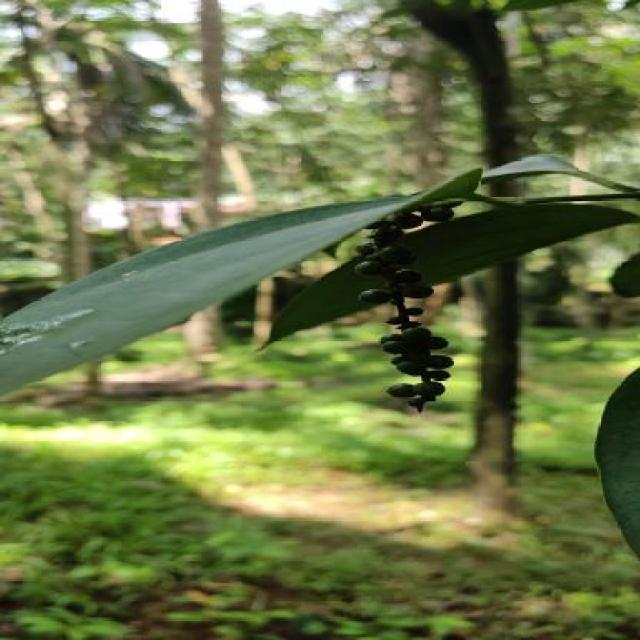UNRIPE: (358, 206, 450, 406)
